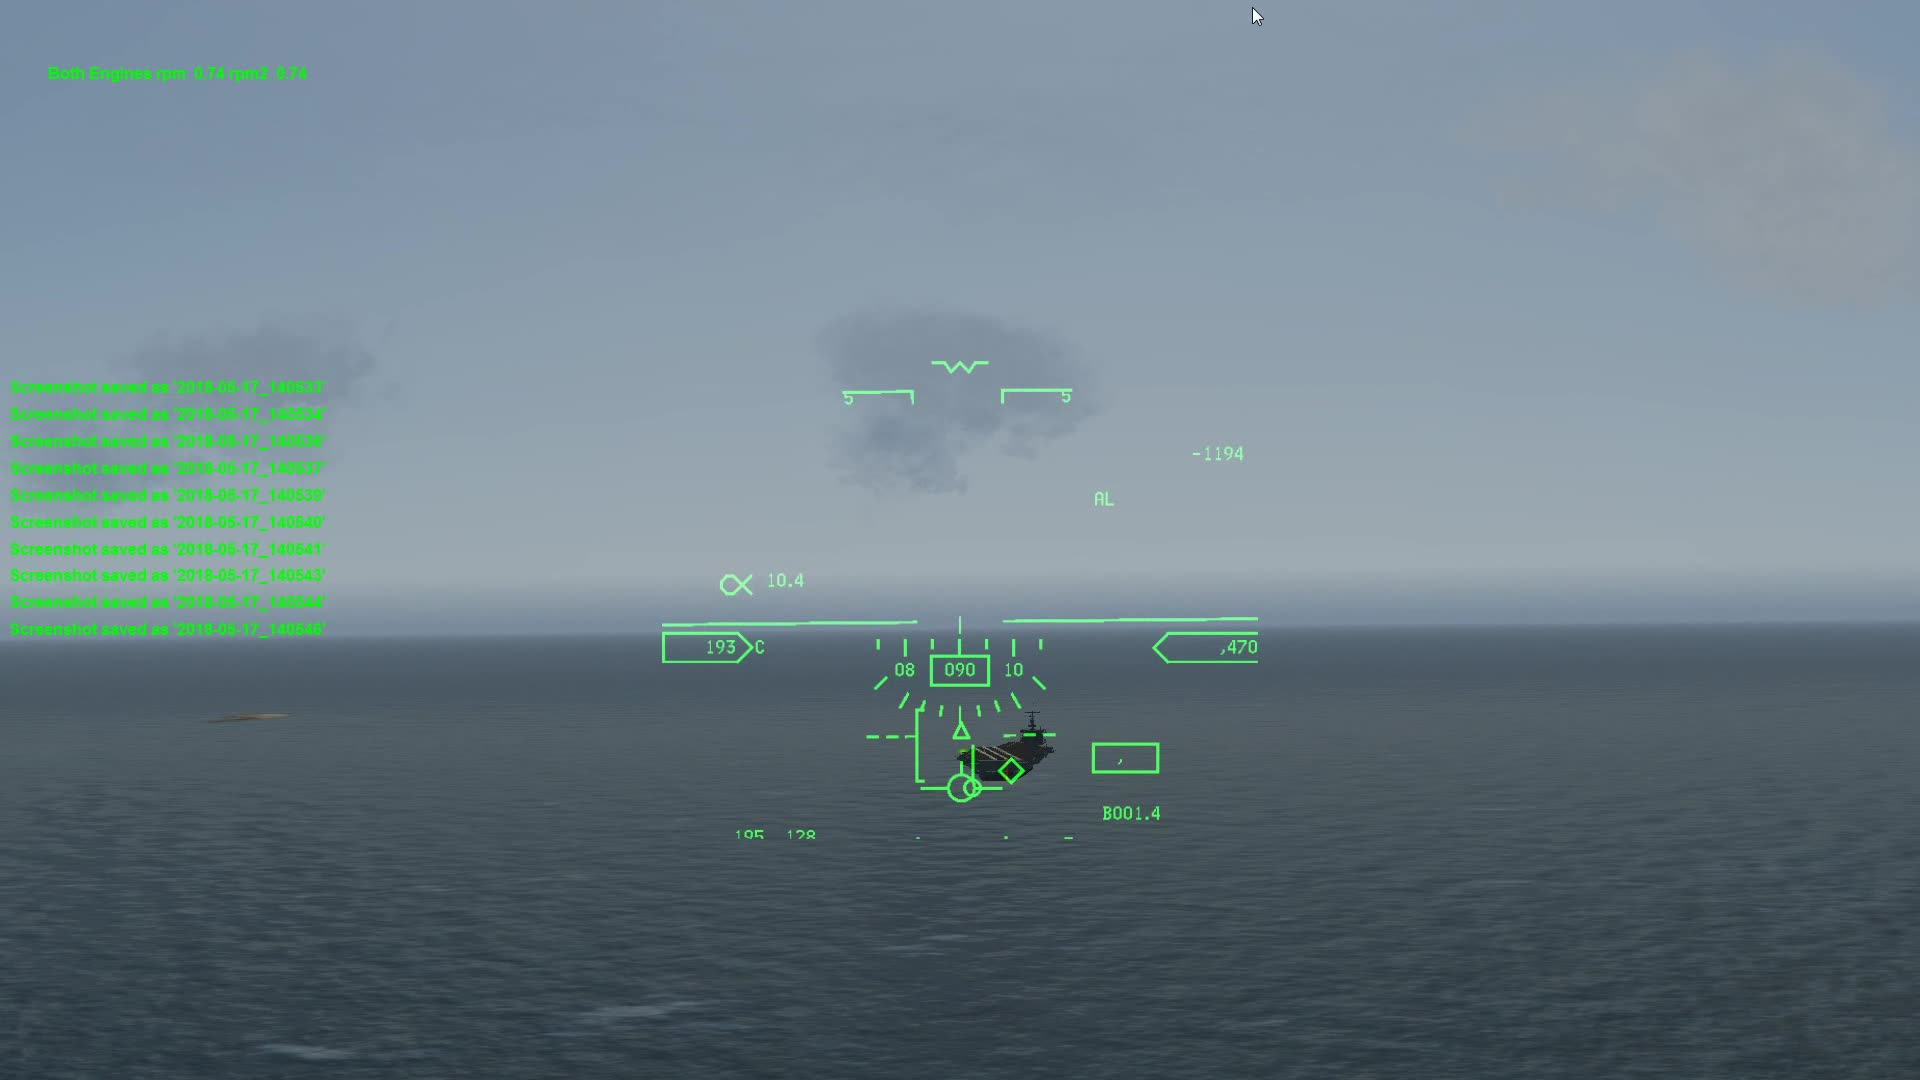speed vector: (923, 766, 1002, 804)
